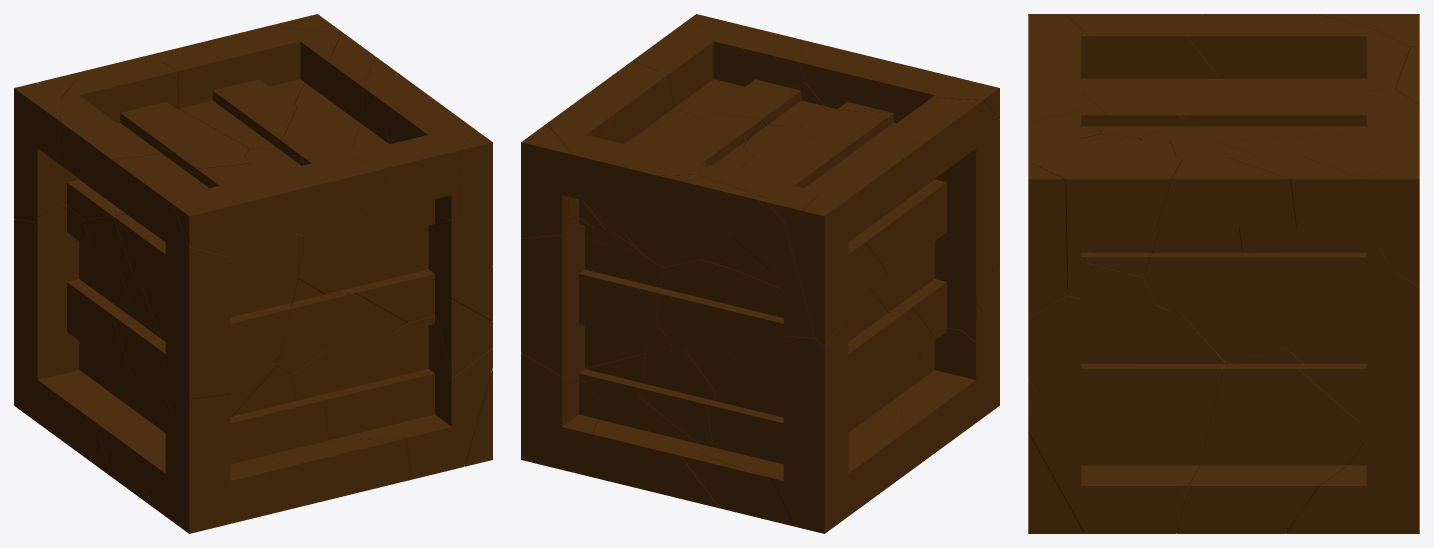
File: Fractured_box.fbx
3 renders of one model, left to right at view 1: azimuth 30°, elevation 25°; view 2: azimuth 150°, elevation 25°; view 3: azimuth 270°, elevation 25°, orthographic. The views are drawn at different scales.
Parts seen in each view (by area): view 1: Box.001_cell.010, Box.001_cell.030, Box.001_cell.024, Box.001_cell.007, Box.001_cell.009, Box.001_cell.015, Box.001_cell.022, Box.001_cell.001, Box.001_cell.029, Box.001_cell.008, Box.001_cell, Box.001_cell.016 (+9 smaller); view 2: Box.001_cell.030, Box.001_cell.010, Box.001_cell.023, Box.001_cell.022, Box.001_cell.008, Box.001_cell.009, Box.001_cell.032, Box.001_cell.014, Box.001_cell, Box.001_cell.027, Box.001_cell.001, Box.001_cell.031 (+12 smaller); view 3: Box.001_cell.024, Box.001_cell.025, Box.001_cell.009, Box.001_cell.008, Box.001_cell.018, Box.001_cell.023, Box.001_cell.011, Box.001_cell.010, Box.001_cell.006, Box.001_cell.016, Box.001_cell.007, Box.001_cell.022 (+8 smaller).
Boxes of the visible parts, x1,y1,x2,y2 form: Box.001_cell.010: (95, 154, 303, 416); Box.001_cell.030: (14, 199, 165, 476); Box.001_cell.024: (277, 311, 492, 479); Box.001_cell.007: (291, 191, 492, 325); Box.001_cell.009: (53, 62, 250, 220); Box.001_cell.015: (145, 394, 314, 533); Box.001_cell.022: (163, 26, 341, 149); Box.001_cell.001: (173, 156, 388, 256); Box.001_cell.029: (232, 365, 411, 503); Box.001_cell.008: (301, 95, 475, 223); Box.001_cell: (83, 216, 165, 490); Box.001_cell.016: (274, 33, 375, 155); Box.001_cell.030: (701, 302, 922, 533); Box.001_cell.010: (800, 98, 999, 358); Box.001_cell.023: (521, 222, 662, 381); Box.001_cell.022: (548, 114, 752, 267); Box.001_cell.008: (632, 22, 804, 125); Box.001_cell.009: (698, 130, 921, 289); Box.001_cell.032: (640, 174, 814, 338); Box.001_cell.014: (656, 259, 783, 388); Box.001_cell: (848, 243, 964, 461); Box.001_cell.027: (574, 396, 719, 508); Box.001_cell.001: (799, 39, 999, 118); Box.001_cell.031: (784, 182, 870, 346); Box.001_cell.024: (1028, 305, 1226, 533); Box.001_cell.025: (1176, 347, 1366, 533); Box.001_cell.009: (1179, 14, 1410, 139); Box.001_cell.008: (1028, 110, 1182, 298); Box.001_cell.018: (1167, 245, 1391, 362); Box.001_cell.023: (1286, 270, 1419, 435); Box.001_cell.011: (1144, 157, 1296, 309); Box.001_cell.010: (1065, 14, 1219, 137); Box.001_cell.006: (1286, 414, 1419, 533); Box.001_cell.016: (1170, 140, 1378, 250); Box.001_cell.007: (1028, 133, 1155, 392); Box.001_cell.022: (1213, 89, 1419, 178).
Bounding box in the file's own units: 2 × 2 × 2.
